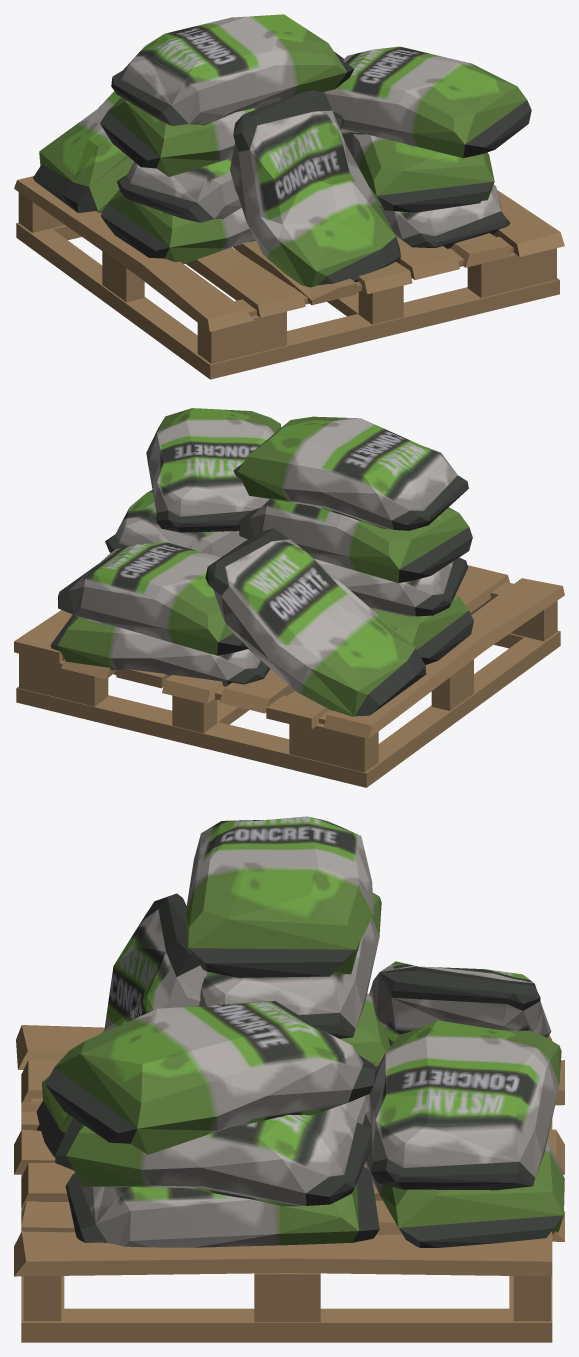
Rendered from SM_Prop_ConcreteBag_Stack_03.obj.
3 renders of one model, top to bottom at view 1: azimuth 30°, elevation 25°; view 2: azimuth 150°, elevation 25°; view 3: azimuth 270°, elevation 25°, orthographic. The views are drawn at different scales.
Visible parts, largest first — view 1: SM_Prop_ConcreteBag_Stack_03_0; view 2: SM_Prop_ConcreteBag_Stack_03_0; view 3: SM_Prop_ConcreteBag_Stack_03_0.
Boxes of the visible parts, left/top/right/bottom form: SM_Prop_ConcreteBag_Stack_03_0: left=14, top=14, right=564, bottom=379; SM_Prop_ConcreteBag_Stack_03_0: left=14, top=408, right=564, bottom=787; SM_Prop_ConcreteBag_Stack_03_0: left=14, top=816, right=564, bottom=1342.
Size of the model in its own units: 1.47 by 0.964 by 1.42.
1 material, 1 textured.
